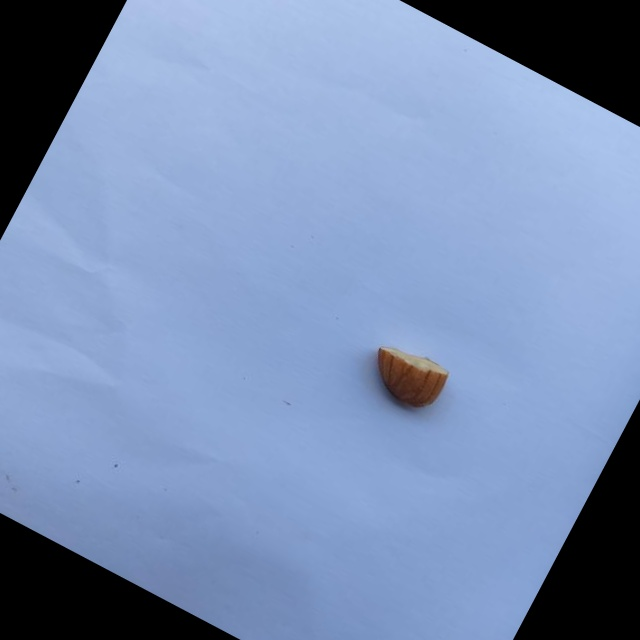grade4: (351, 328, 461, 426)
